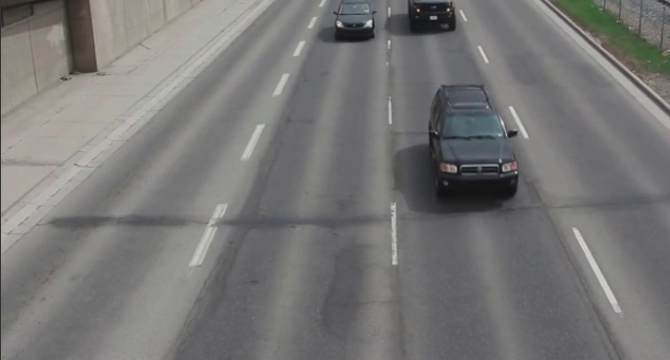car: (424, 86, 527, 198), (334, 2, 376, 41), (408, 2, 457, 32)
